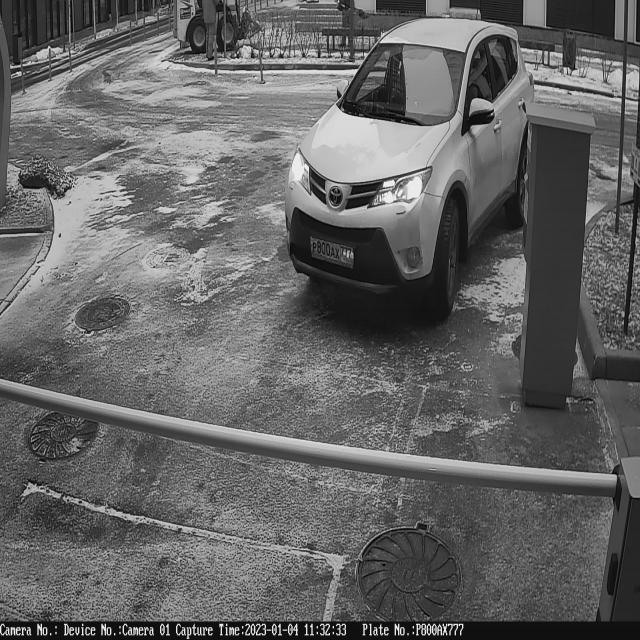car-plate-numbers: (309, 233, 357, 273)
